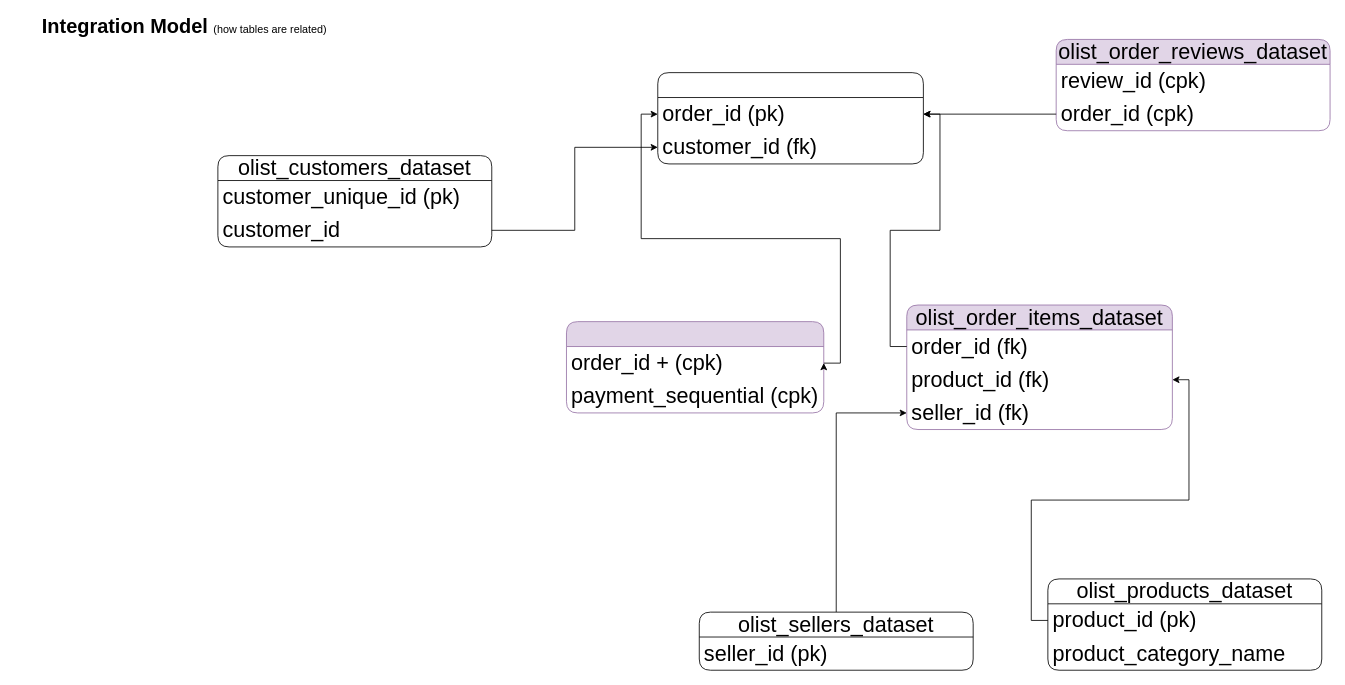
This 1345x685 diagram has some shape labels left out. Here are the shapes that lost their labels. From the top down, the box of each, then its label:
(657, 72, 923, 164): olist_orders_dataset
(566, 321, 824, 413): olist_payments_dataset
